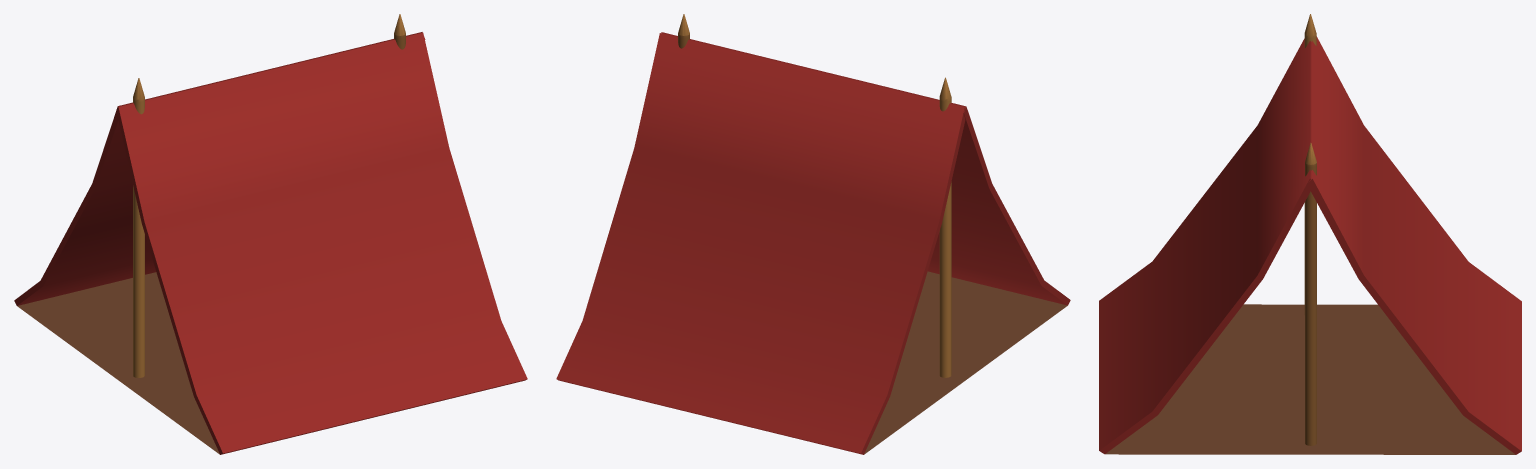
The model's file is Zelt_2.fbx.
The picture shows the model from 3 angles, left to right: view 1: azimuth 30°, elevation 25°; view 2: azimuth 150°, elevation 25°; view 3: azimuth 270°, elevation 25°; orthographic projection.
Visible parts, largest first — view 1: Zelt1; view 2: Zelt1; view 3: Zelt1.
Boxes of the visible parts, x1,y1,x2,y2 form: Zelt1: (14, 14, 527, 454); Zelt1: (556, 14, 1070, 454); Zelt1: (1099, 14, 1521, 454).
Size of the model in its own units: 327 by 310 by 388.
